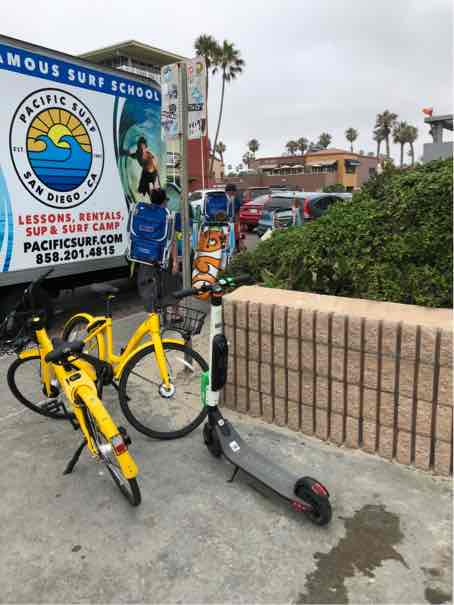scooter: (170, 265, 334, 533)
